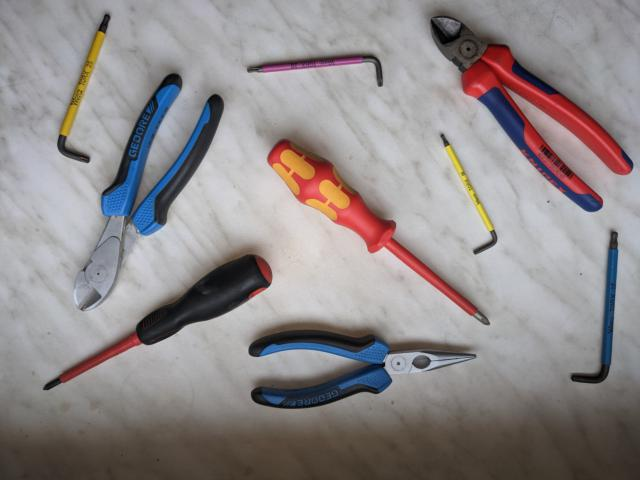Inbusschlüssel: (52, 10, 116, 164), (567, 227, 623, 387), (436, 129, 502, 258), (243, 52, 388, 88)
Schraubendreher: (265, 134, 494, 327), (39, 248, 276, 396)
Seitenschneider: (429, 13, 637, 216), (69, 70, 229, 314)
Zange: (246, 324, 479, 414)
